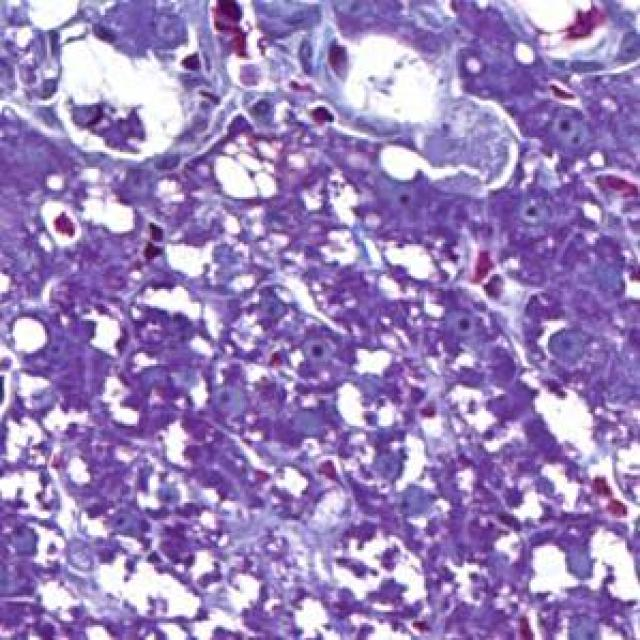ballooning: (32, 26, 197, 167)
